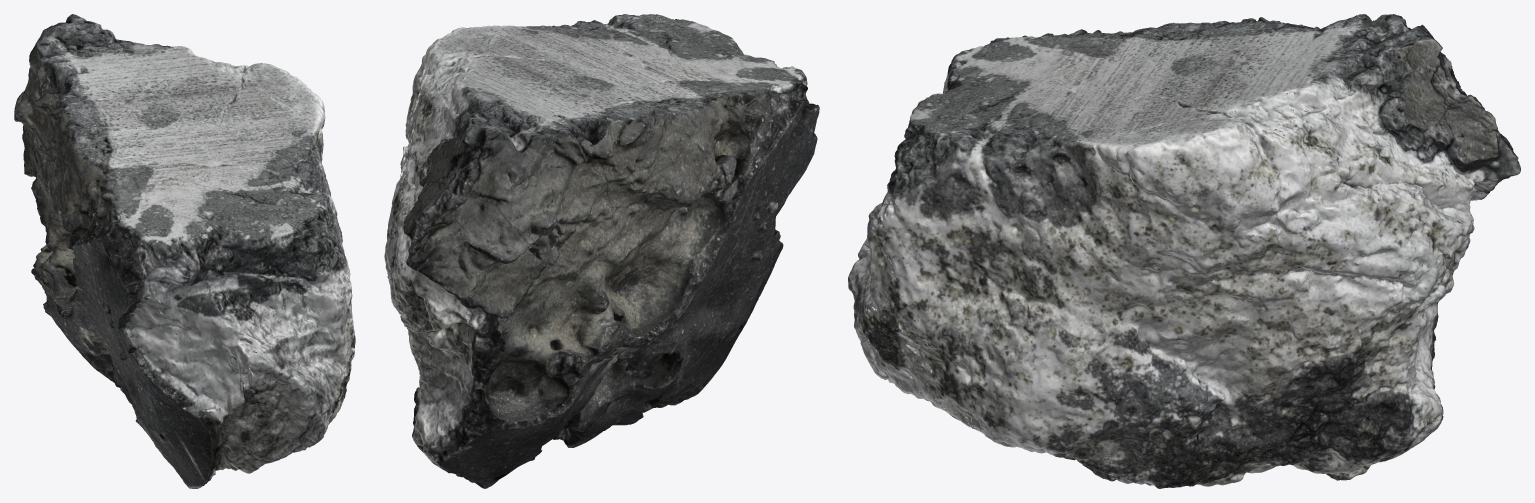
The model's file is 65035-0_SFM_Web-Resolution-Model_Coordinate-Registered.obj.
The picture shows the model from 3 angles, left to right: view 1: azimuth 30°, elevation 25°; view 2: azimuth 150°, elevation 25°; view 3: azimuth 270°, elevation 25°; orthographic projection. The views are drawn at different scales.
Bounding box in the file's own units: 0.0462 × 0.0589 × 0.082.
Materials: 1 (1 with a texture image).
